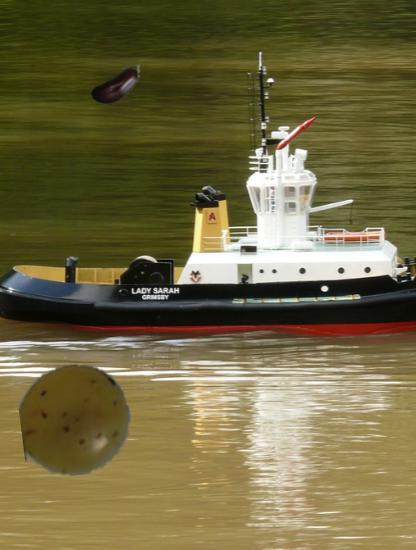Eggplant: (89, 56, 149, 116)
Grape: (21, 365, 131, 475)
